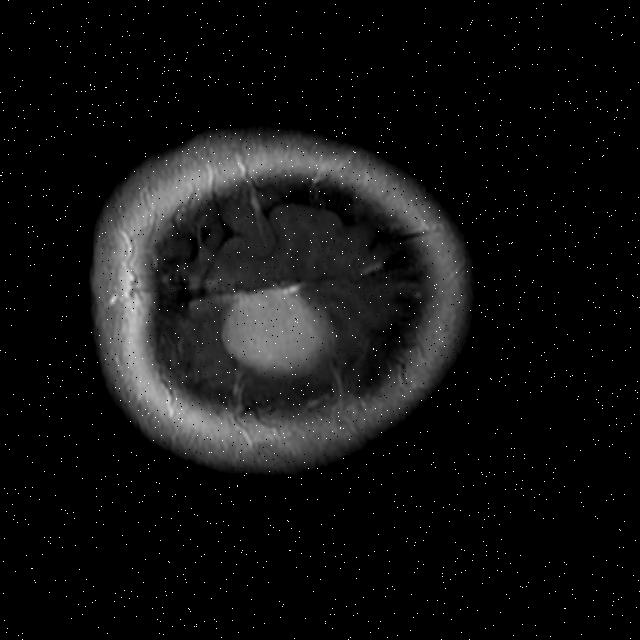Meningioma: (214, 283, 338, 382)
